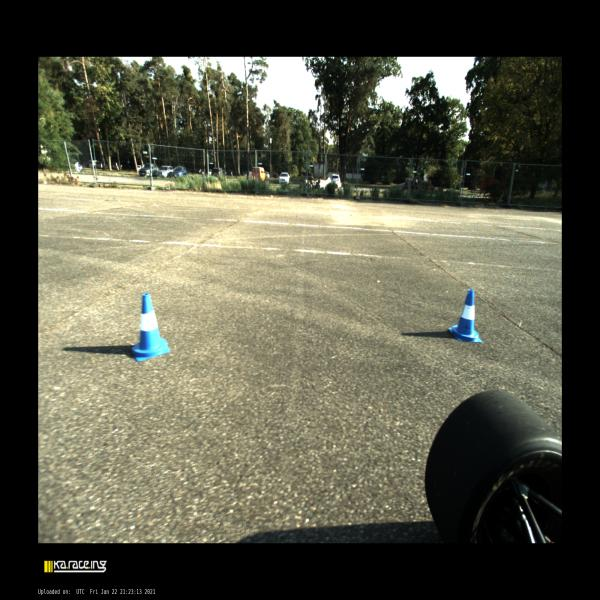blue_cone: (132, 294, 171, 361), (449, 289, 482, 342)
